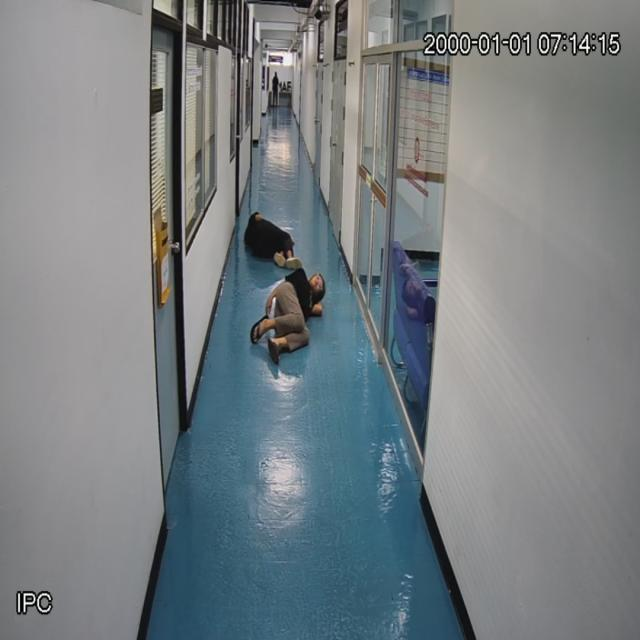fall: (242, 262, 328, 364), (247, 265, 331, 368), (241, 196, 294, 270)
